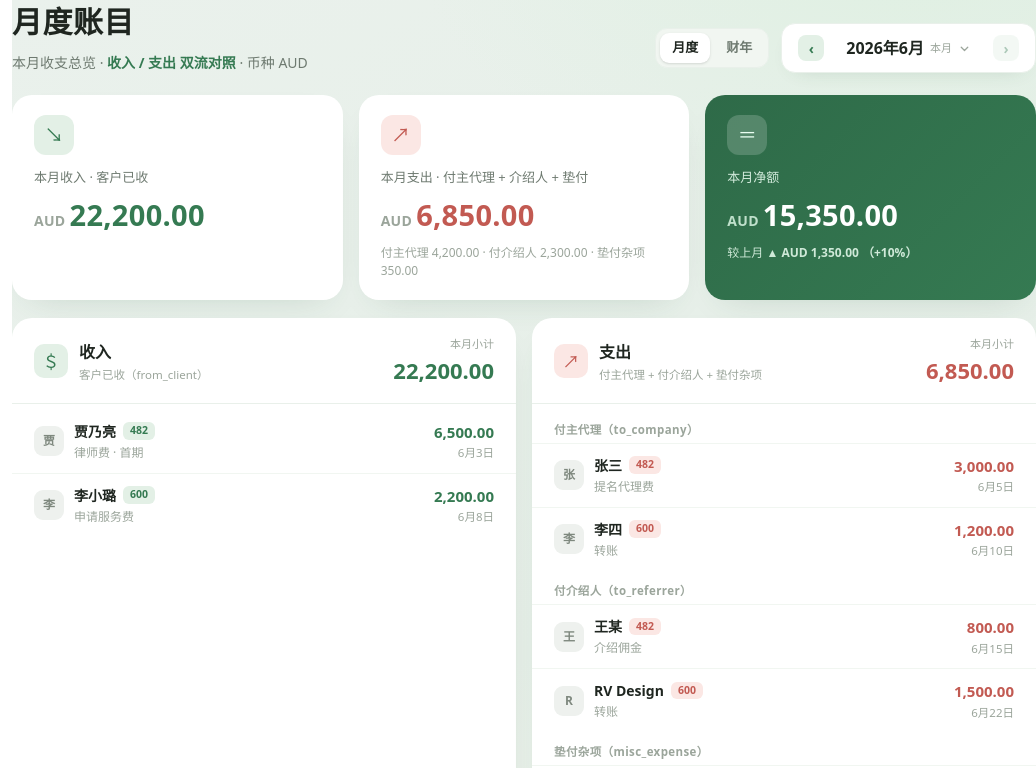
Test: FinancePage · 月度 ↔ 财年 跟随联动 › 财→月：原月份不在所选财年内 → 过去财年跳到该财年末月 6 月
Click the button "财年": (739, 48) [714, 33, 764, 63]
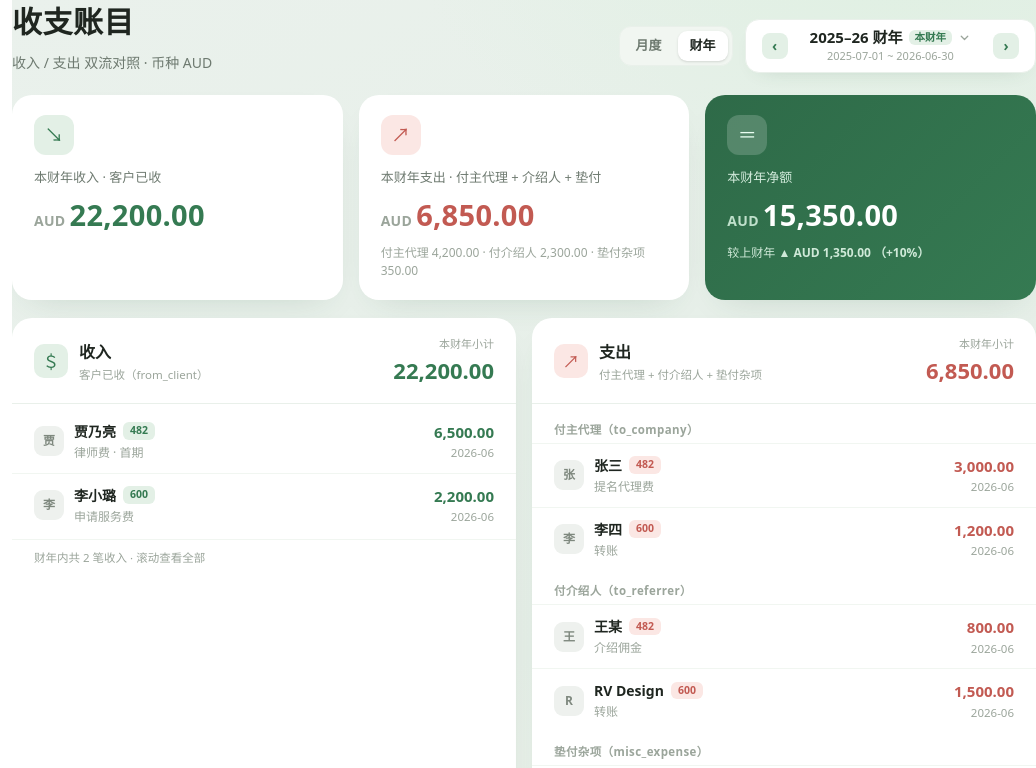
Click the button named "上一财年": (775, 46) [762, 33, 788, 59]
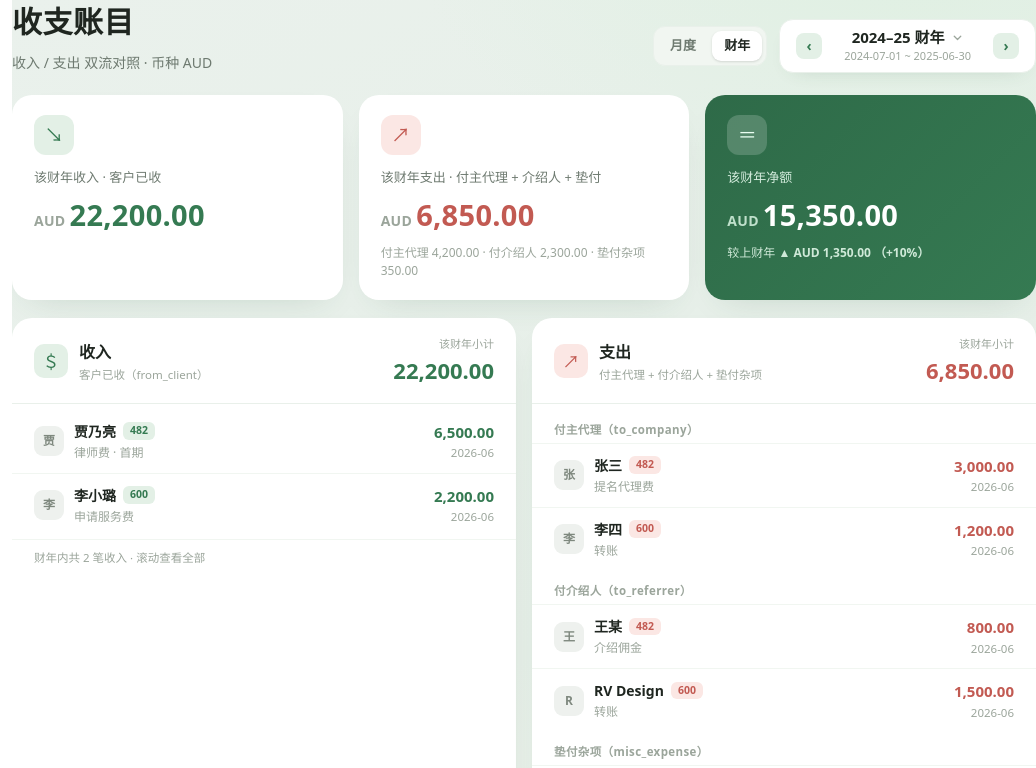
Click the button "月度": (683, 46) [658, 31, 708, 61]
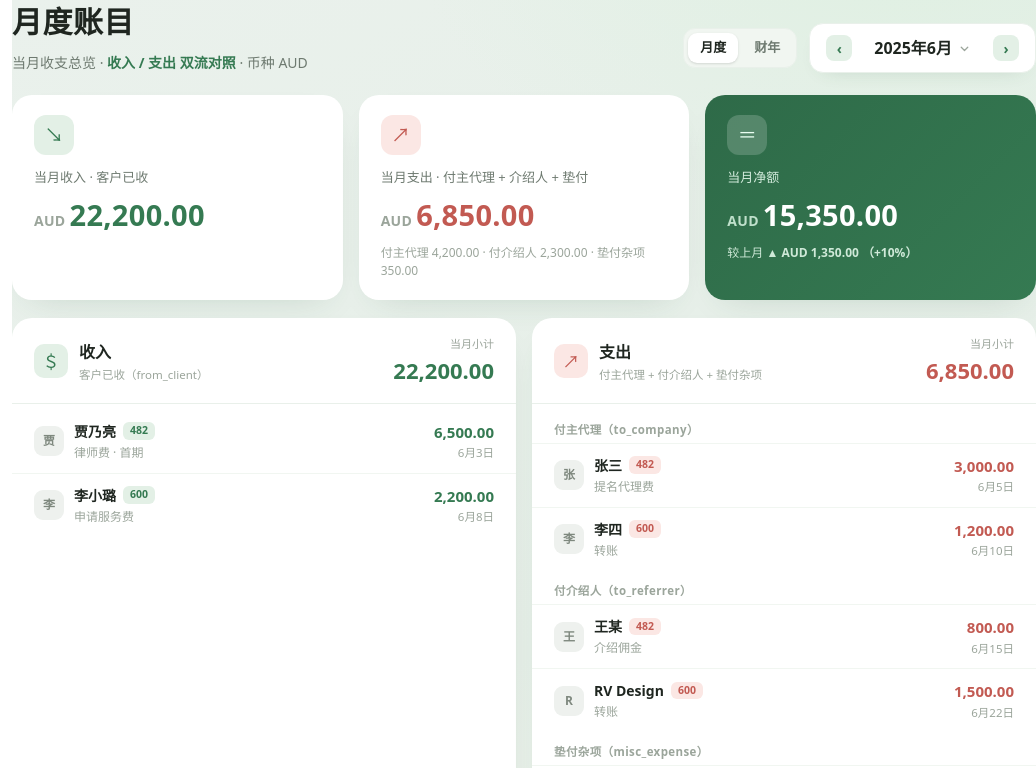
Check: the text "2025年6月" is shown, box [874, 36, 952, 60]
